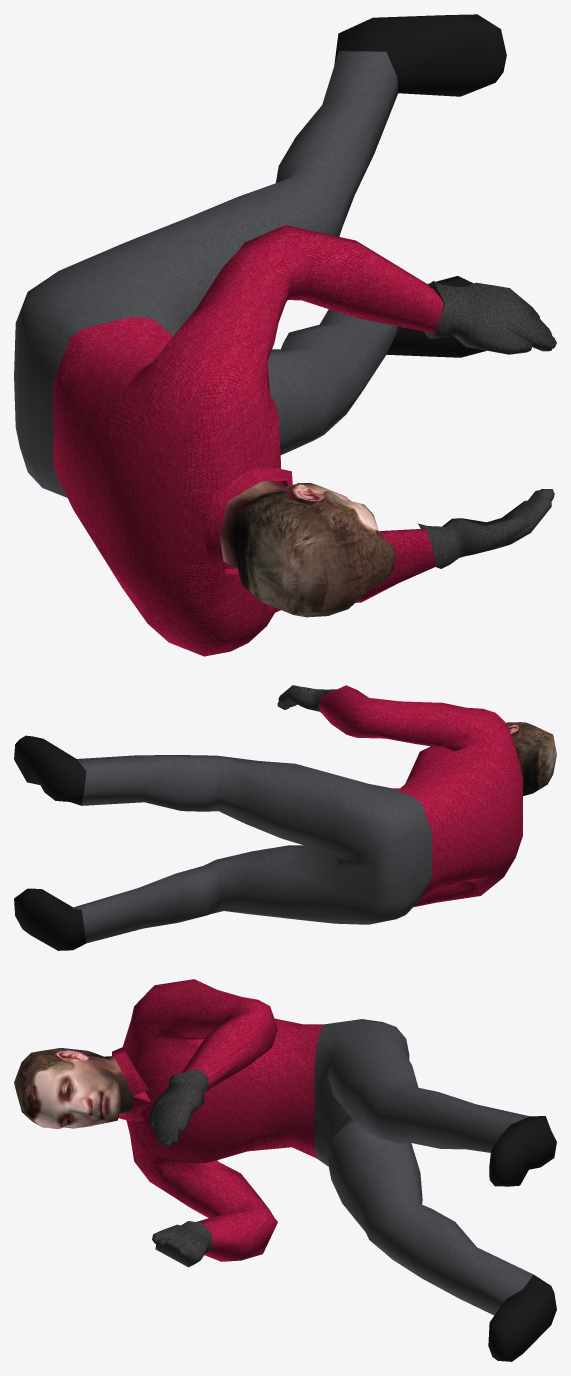
Rendered from driver.obj.
3 views of the same model, one above another, from view 1: azimuth 30°, elevation 25°; view 2: azimuth 150°, elevation 25°; view 3: azimuth 270°, elevation 25° (orthographic). The views are drawn at different scales.
Parts seen in each view (by area): view 1: Shirt, Pants, 11_-_Default, Shoes, glove, 12_-_Default; view 2: Pants, Shirt, Shoes, 11_-_Default, glove; view 3: Shirt, Pants, 11_-_Default, Shoes, glove.
Part boxes in pixels (bbox=[...]): Shirt: bbox=[53, 225, 442, 656]; Pants: bbox=[14, 51, 398, 497]; 11_-_Default: bbox=[220, 481, 395, 617]; Shoes: bbox=[334, 14, 506, 357]; glove: bbox=[418, 281, 556, 568]; 12_-_Default: bbox=[322, 534, 391, 610]; Pants: bbox=[72, 755, 432, 942]; Shirt: bbox=[318, 685, 523, 907]; Shoes: bbox=[14, 735, 86, 950]; 11_-_Default: bbox=[506, 722, 556, 795]; glove: bbox=[277, 685, 336, 712]; Shirt: bbox=[112, 979, 323, 1261]; Pants: bbox=[314, 1019, 533, 1315]; 11_-_Default: bbox=[21, 1048, 133, 1129]; Shoes: bbox=[488, 1116, 556, 1361]; glove: bbox=[149, 1069, 212, 1267].
Size of the model in its own units: 1.09 by 0.6201 by 1.24.
6 materials, 5 textured.
